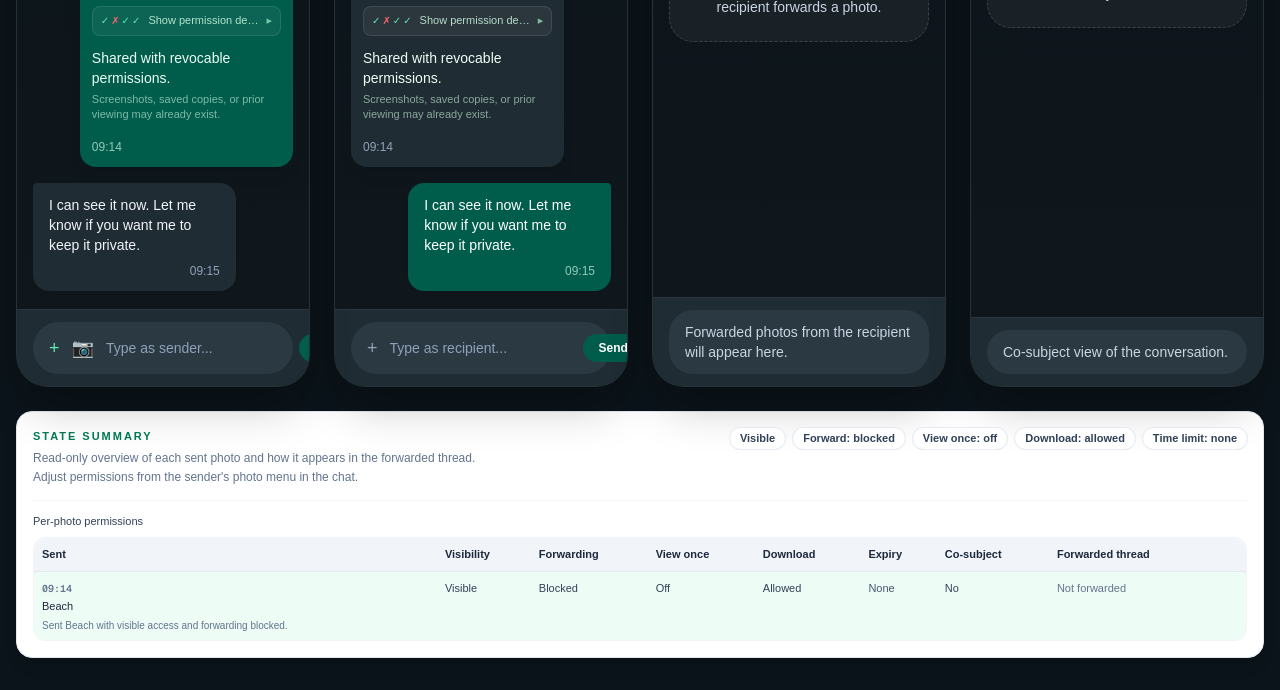
PhotoRevocationDemo › closes the picker sheet when Cancel is pressed
(page scrolled)
Click the button named "Open photo actions" at (54, 348), box top-left (49, 334), bottom-right (60, 362)
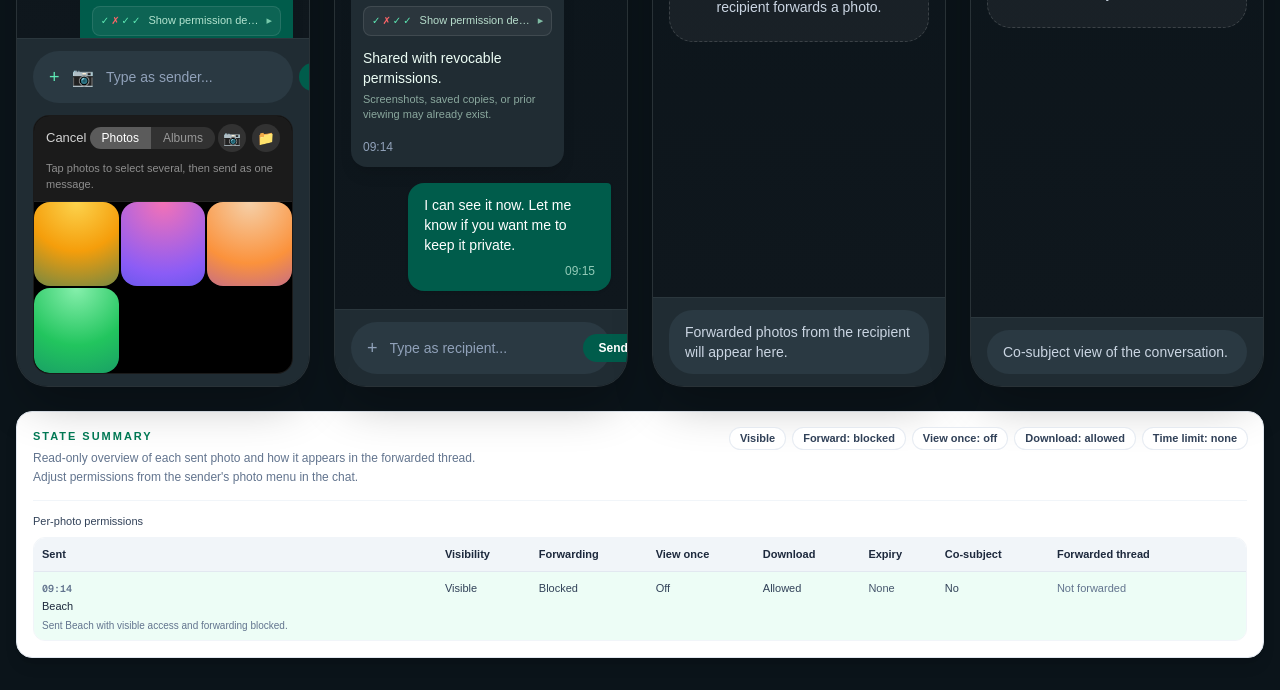
Result: the text "Tap photos to select several, then send as one message." is shown at top-left (34, 160), bottom-right (292, 202)
Click the button "Cancel" at (66, 138), box top-left (46, 128), bottom-right (86, 147)
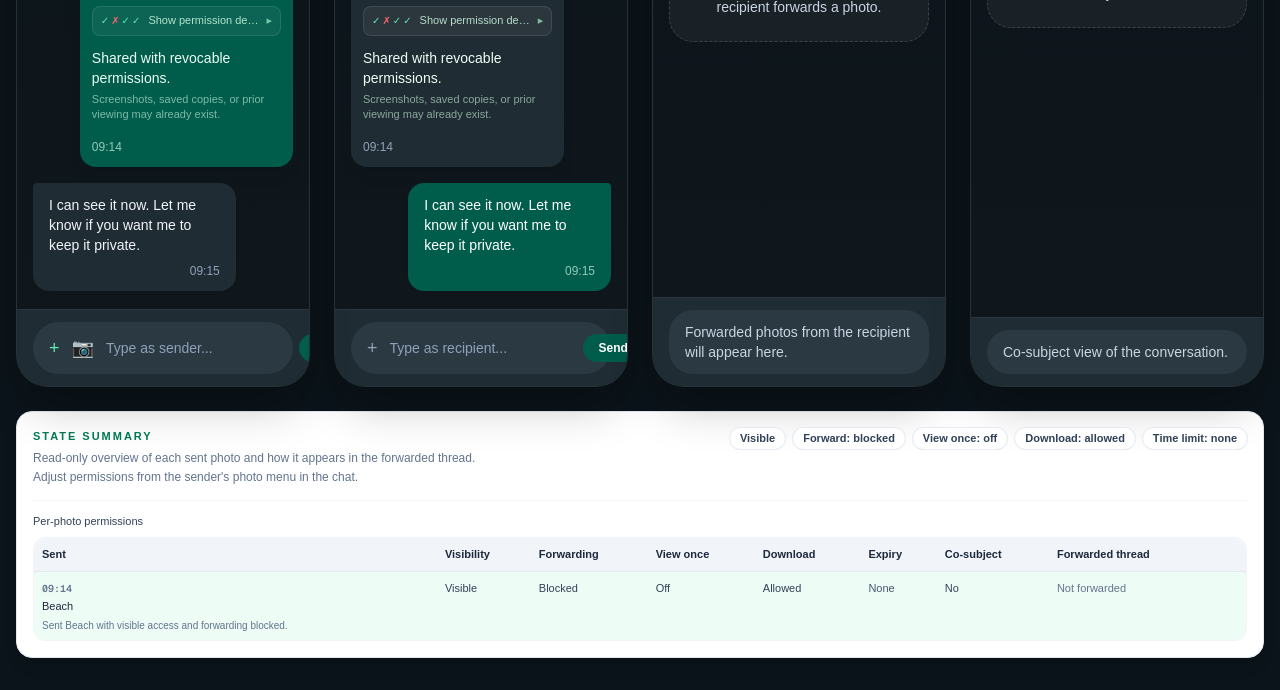
Result: the text "Tap photos to select several, then send as one message." is gone
